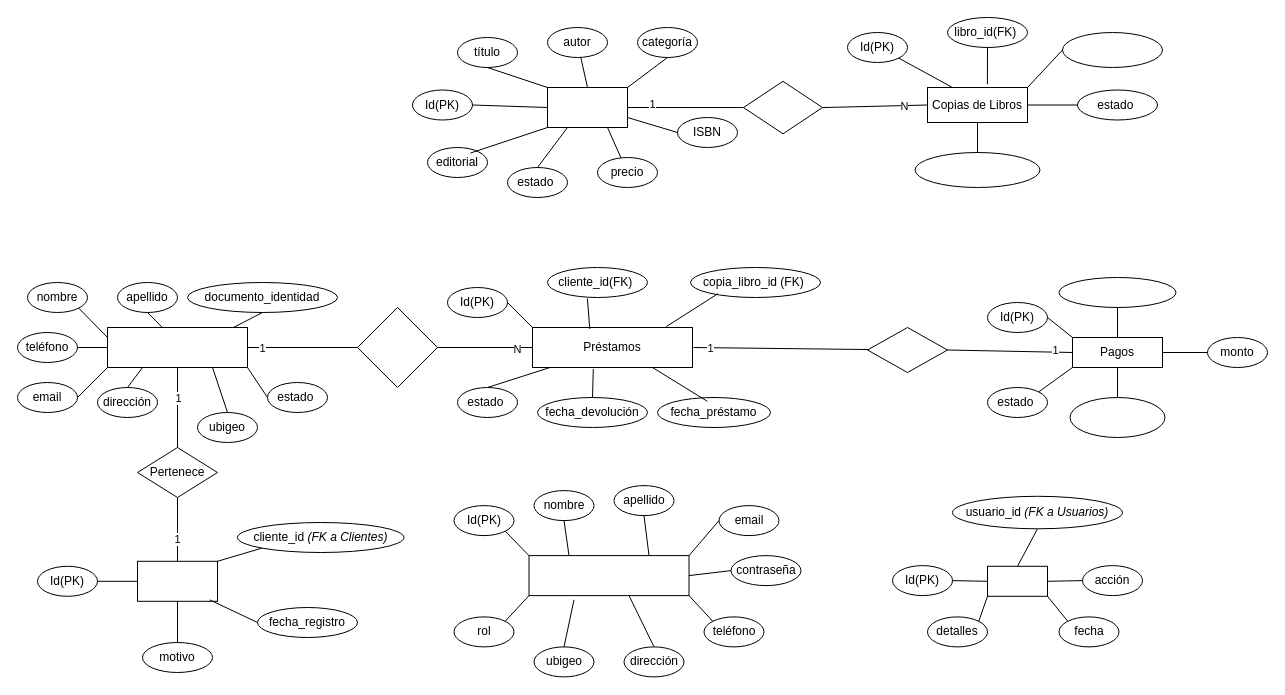
This 1285x695 diagram has some shape labels left out. Here are the shapes that lost their labels. From the top down, the centre of each, then its label:
point 1112,50: código_barras
point 587,107: Libros
point 782,107: Tiene
point 977,170: ubicación_estante
point 1117,292: préstamo_id (PK)
point 177,347: Clientes
point 397,347: Realiza
point 907,349: Genera
point 1117,417: método_pago
point 177,580: Lista Negra
point 608,575: Usuarios
point 1017,580: Auditoría
